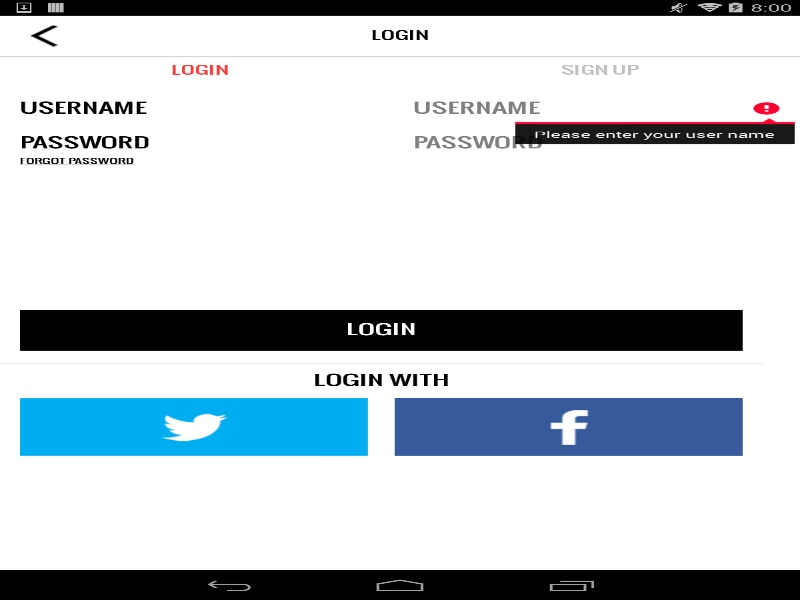Button: (20, 310, 742, 350), (20, 398, 368, 455), (394, 398, 742, 455), (0, 56, 400, 84), (400, 56, 800, 84), (13, 21, 74, 50)
Input: (400, 100, 780, 116), (400, 135, 780, 151)
